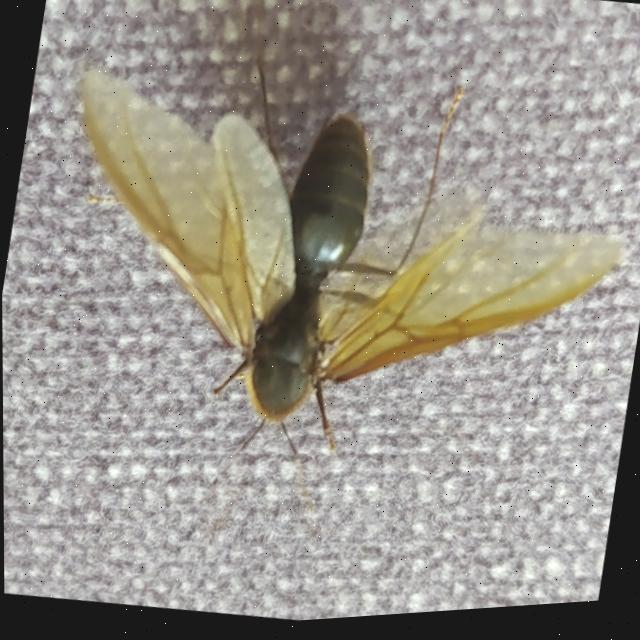Alive-Male-Alate: (16, 0, 640, 573)
